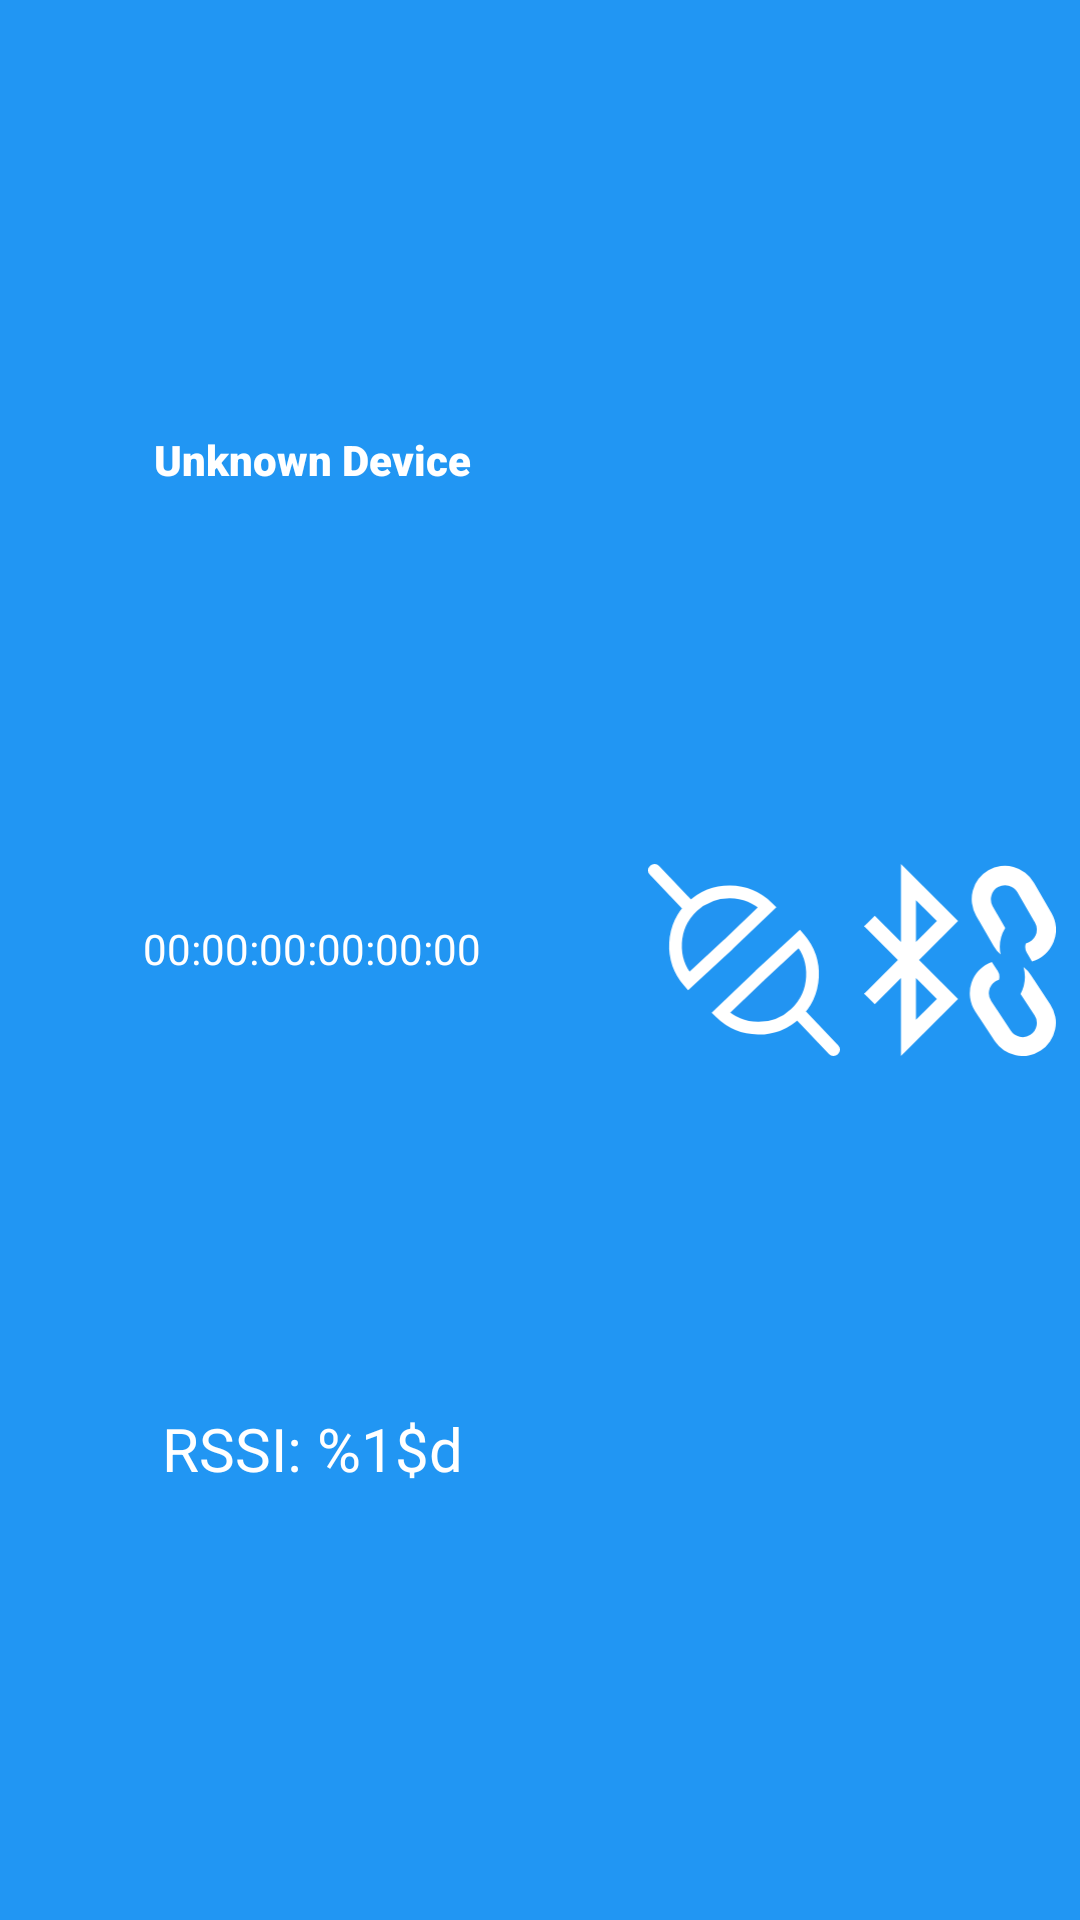

Screen size 1080w x 1920h. Icon name, then its box in pixels as (x1, y1, x2, y2):
Is BLE Device Connectable: (648, 864, 840, 1056)
